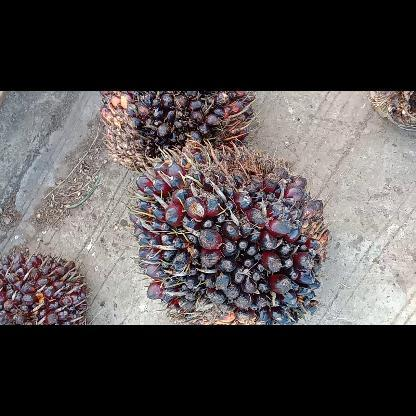TBS mentah: (127, 146, 329, 324), (99, 90, 255, 170), (0, 254, 88, 324)
